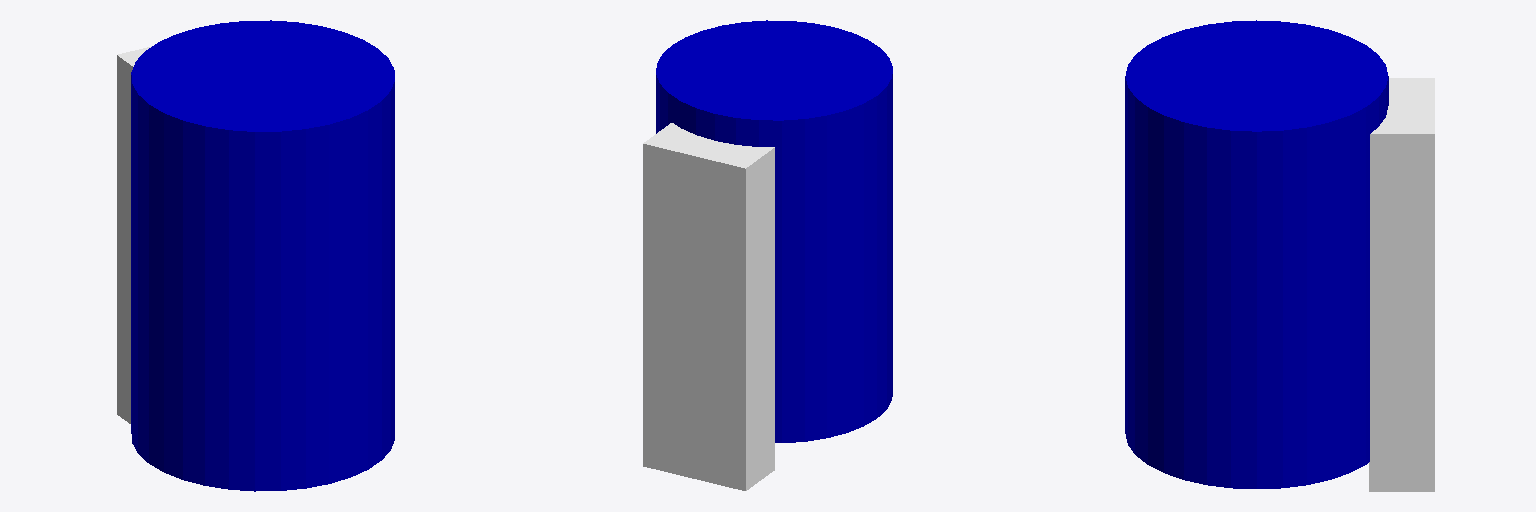
robot.urdf — tapak_kaki:
<?xml version="1.0"?>
<robot name="tapak_kaki">
	<material name="blue">
		<color rgba="0 0 0.8 1"/>
	</material>

	<material name="white">
			<color rgba="1 1 1 1"/>
	</material>

	<link name="tapak">
		<visual>
			<geometry>
				<cylinder length="0.6" radius="0.2"/>
			</geometry>
			<material name="blue"/>
		</visual>
	</link>

	<link name="kaki_kanan">
		<visual>
				<geometry>
						<box size="0.6 0.1 0.2"/>
				</geometry>
				<!--setting rpy=(0,pi/2,0)    		  -->
				<origin rpy="0 1.5707 0" xyz="0 0 -0.3"/>
				<material name="white"/>
		</visual>
	</link>

	<joint name="tapak_ke_kaki_kanak" type="fixed">
			<parent link="tapak"/>
			<child link="kaki_kanan"/>
			<origin xyz="0 0.22 0.25"/>
	</joint>
</robot>

--- What the picture shows (computed from the rendered views, not written in the file) ---
Views: 3 orthographic renders of the robot side by side, from view 1: azimuth 30°, elevation 25°; view 2: azimuth 150°, elevation 25°; view 3: azimuth 270°, elevation 25°.
Model tapak_kaki with 2 links and 1 joints (1 fixed), rooted at tapak, posed every joint at zero.
Links seen in each view (by area): view 1: tapak, kaki_kanan; view 2: tapak, kaki_kanan; view 3: tapak, kaki_kanan.
Link boxes in pixels (x1,y1,x2,y2): tapak: [131, 20, 394, 491]; kaki_kanan: [117, 46, 151, 423]; tapak: [656, 20, 892, 442]; kaki_kanan: [643, 123, 774, 490]; tapak: [1125, 20, 1388, 488]; kaki_kanan: [1369, 78, 1434, 491].
Size in the robot's own frame: 0.4 by 0.47 by 0.65 metres.
Geometry: primitives only (box / cylinder / sphere), no mesh files.